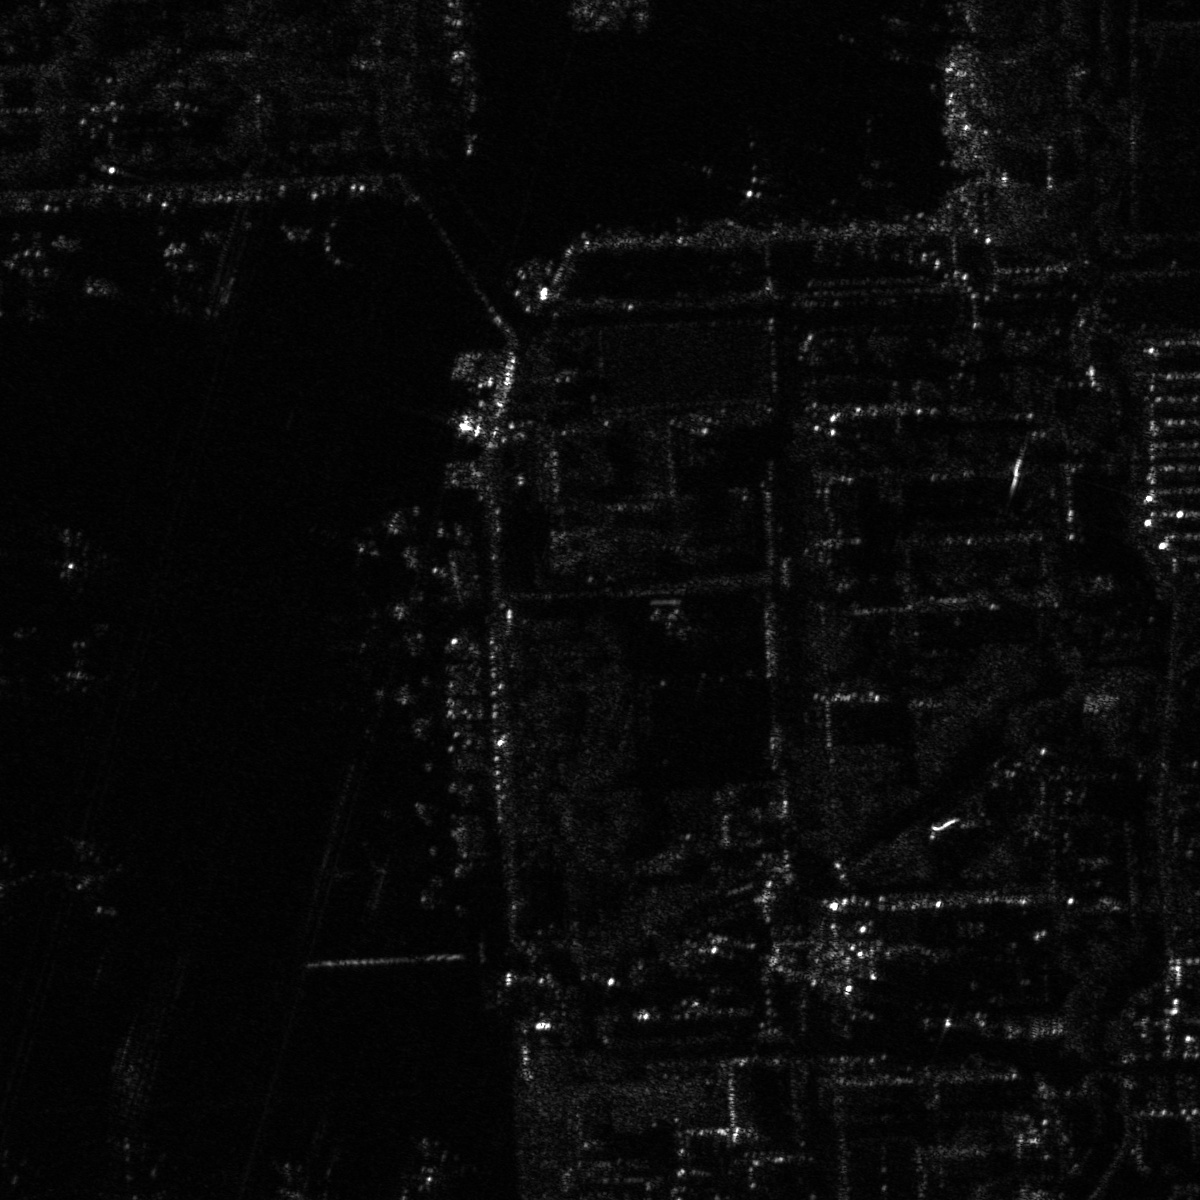A220: (386, 1137, 479, 1197), (51, 836, 130, 896)
ARJ21: (140, 237, 227, 321), (36, 637, 125, 699)
Boeing787: (797, 109, 903, 215), (84, 1138, 171, 1199)
other: (680, 121, 803, 213), (305, 586, 419, 659), (313, 668, 425, 742), (31, 515, 121, 593), (311, 835, 397, 916), (314, 513, 408, 577), (1, 838, 40, 899)
